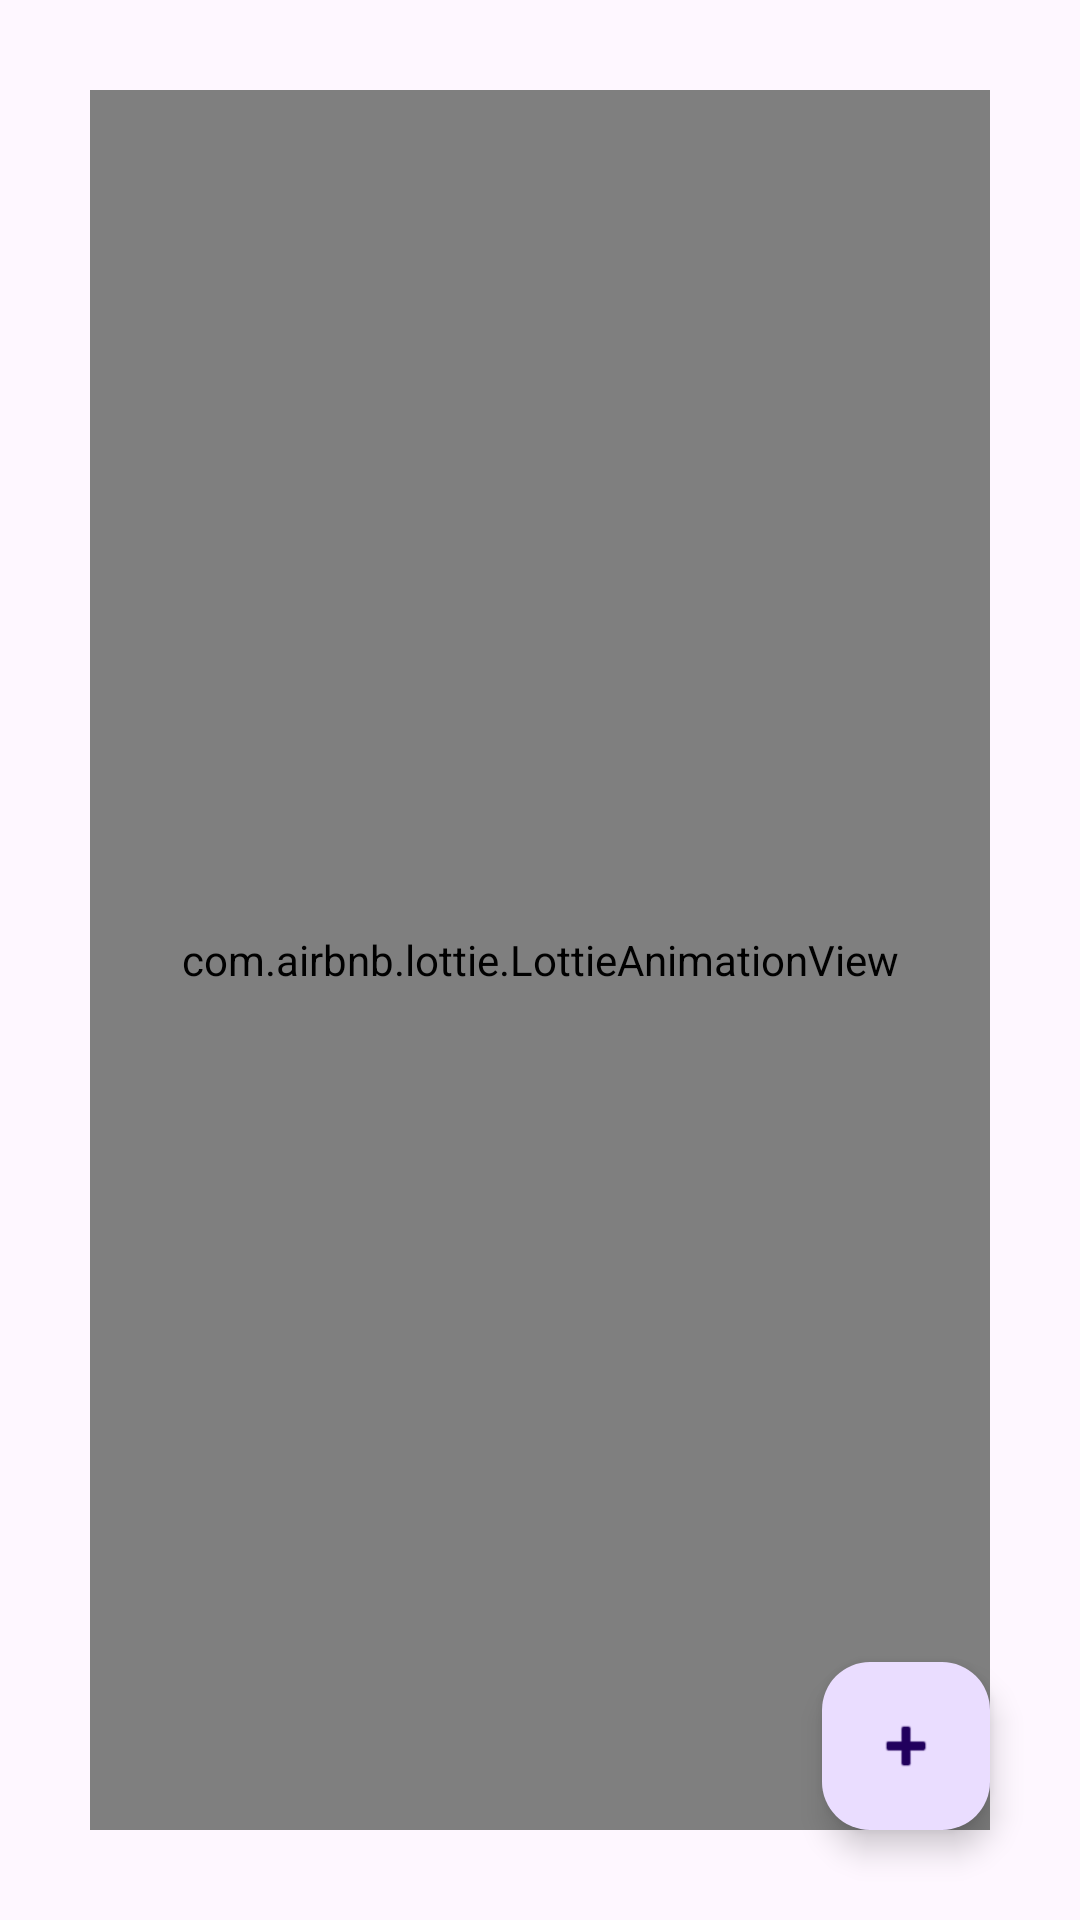

Point at icon controls on the screen. Image size 1080×1920, points as [x,y].
Add Request: [906,1746]
